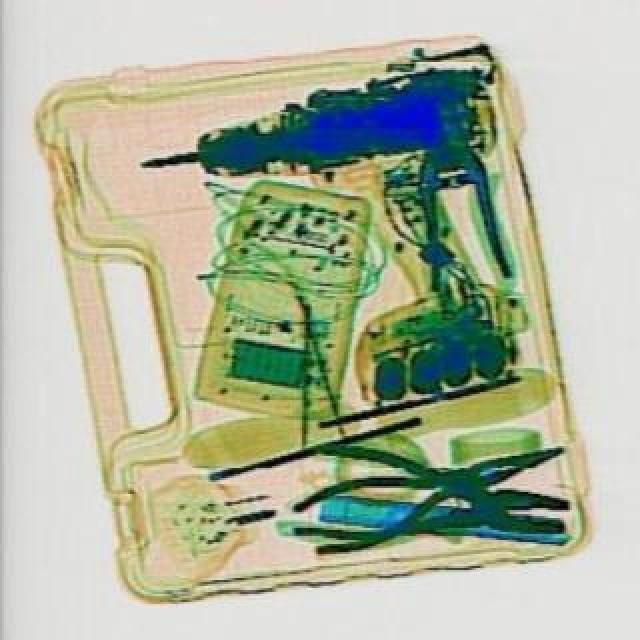wrench: (282, 412, 570, 564), (288, 438, 572, 562), (404, 136, 508, 292)
